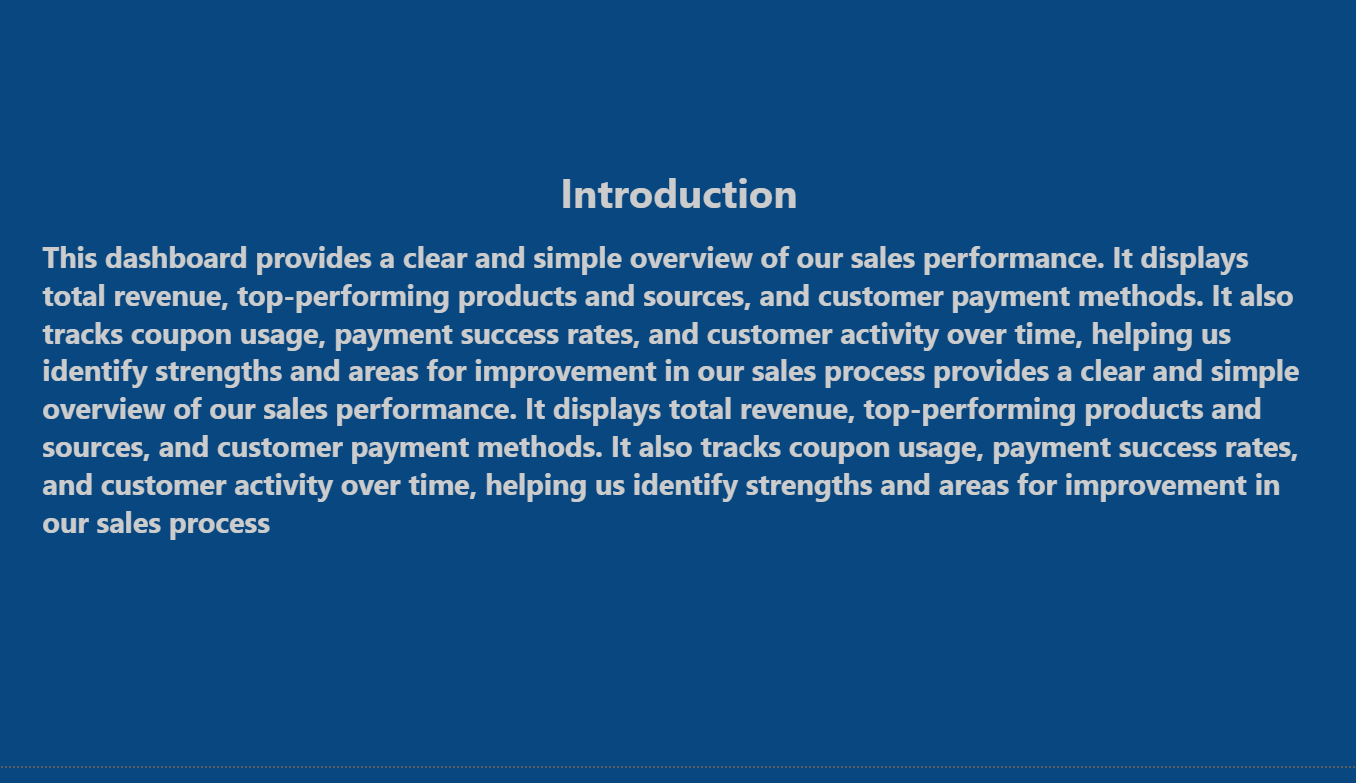

The page's visual inventory and layout, read from the dashboard file:
{"tool":"powerbi","page":{"name":"Introduction","canvas":[1280,720],"ordinal":0},"visuals":[{"type":"textbox","box":[41.9,155.8,1194.2,386],"z":0}]}

Visuals, with their boxes in screenshot pixels (x1, y1, x2, y2), scaled from the page's 1280x720 canvas onto the 1356x783 screenshot:
textbox: bbox(44, 169, 1309, 589)
